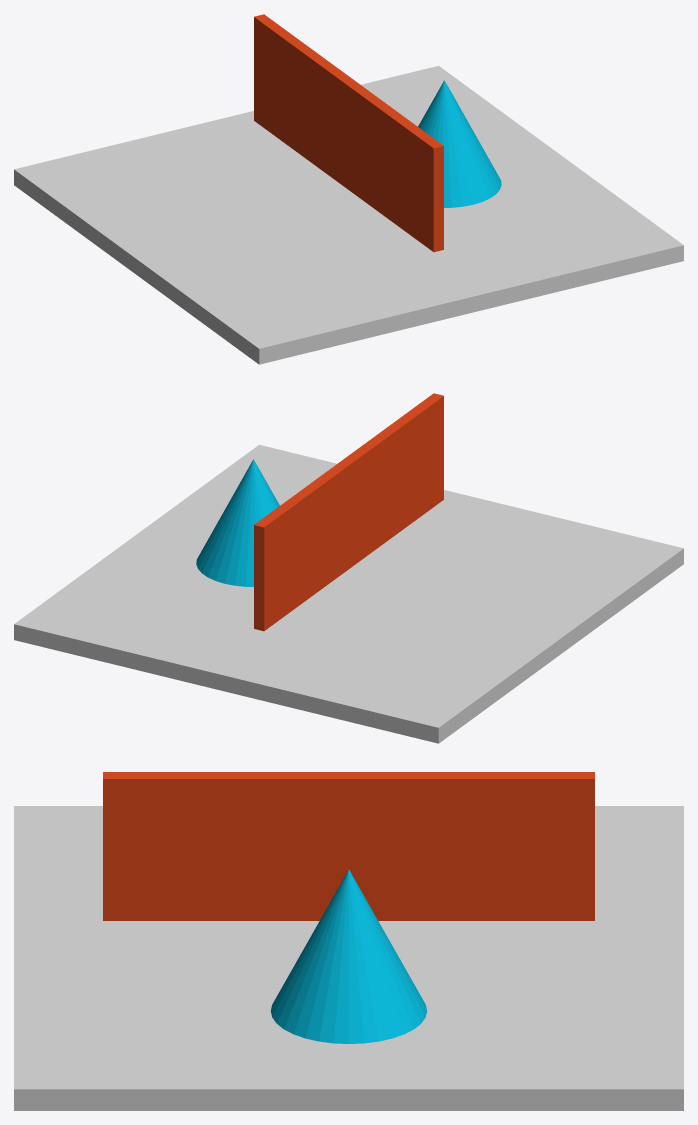
3 renders of one model, top to bottom at view 1: azimuth 30°, elevation 25°; view 2: azimuth 150°, elevation 25°; view 3: azimuth 270°, elevation 25°, orthographic. The views are drawn at different scales.
Visible parts, largest first — view 1: Cube, Cube.001, Cone; view 2: Cube, Cube.001, Cone; view 3: Cube, Cube.001, Cone.
Part boxes in pixels (x1,y1,x2,y2): Cube: [14, 65, 683, 364]; Cube.001: [254, 14, 443, 252]; Cone: [418, 80, 501, 207]; Cube: [14, 444, 683, 743]; Cube.001: [254, 393, 443, 631]; Cone: [196, 459, 279, 586]; Cube: [14, 806, 683, 1110]; Cube.001: [103, 772, 594, 920]; Cone: [271, 869, 426, 1043].
Size of the model in its own units: 8.56 by 2.73 by 8.56.
